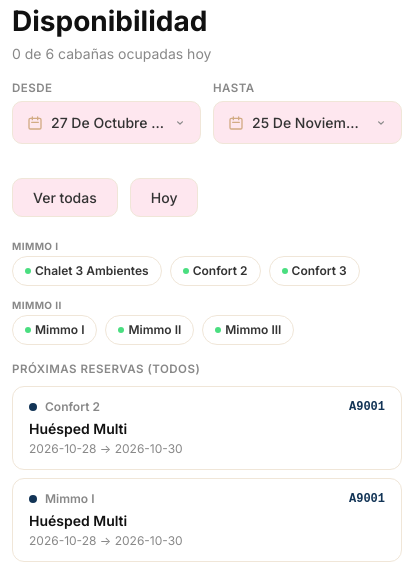
it: Disponibilidad.jsx — "Ver por cabaña": timeline y "Reservas en el período" para cada cabaña de una reserva multi-cabaña › seleccionar una cabaña que NO ocupa esta reserva no la muestra
Click the button "Confort 3".
click(314, 270)  # box [268, 256, 360, 286]
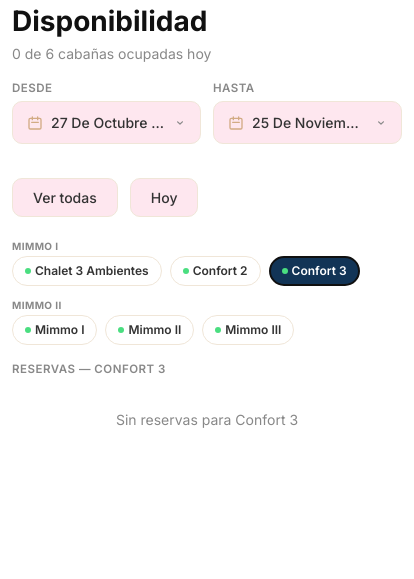
expect the text "A9001" is gone: met
